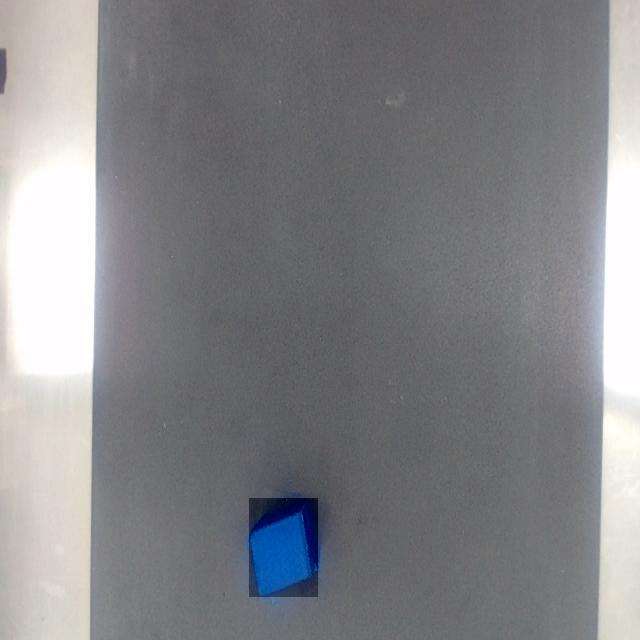Azul: (250, 499, 318, 597)
